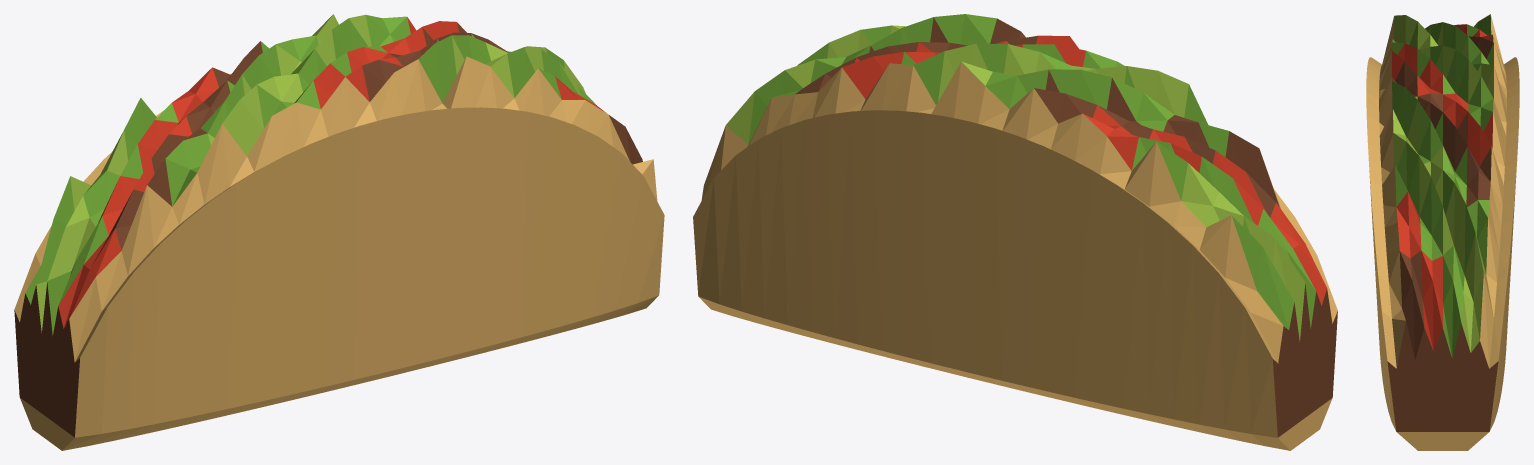
Rendered from NEW_RECOVERY_059_LOD0.glb.
3 renders of one model, left to right at view 1: azimuth 30°, elevation 25°; view 2: azimuth 150°, elevation 25°; view 3: azimuth 270°, elevation 25°, orthographic. The views are drawn at different scales.
Parts seen in each view (by area): view 1: Whole taco; view 2: Whole taco; view 3: Whole taco.
Boxes of the visible parts, x1,y1,x2,y2 form: Whole taco: (14,14,664,450); Whole taco: (693,14,1337,450); Whole taco: (1366,14,1519,450).
Size of the model in its own units: 2.3 by 1.25 by 0.62.
